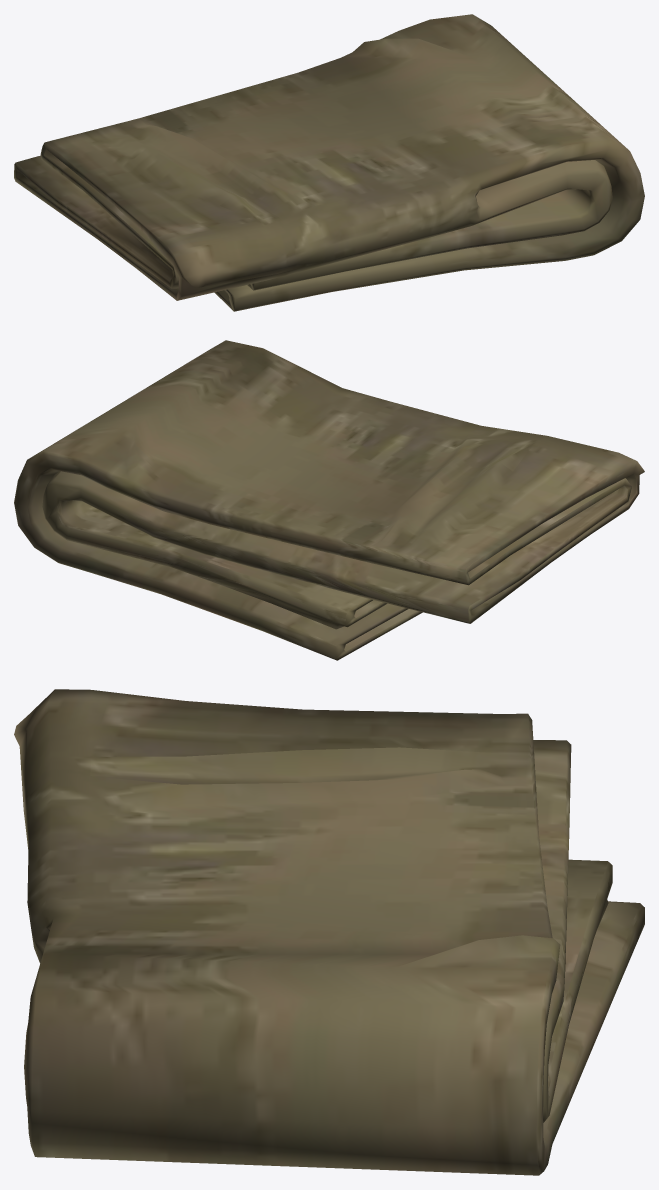
The model's file is pantsshorts_worldmodel.glb.
3 views of the same model, one above another, from view 1: azimuth 30°, elevation 25°; view 2: azimuth 150°, elevation 25°; view 3: azimuth 270°, elevation 25° (orthographic). The views are drawn at different scales.
Visible parts, largest first — view 1: Shorts_LOD0; view 2: Shorts_LOD0; view 3: Shorts_LOD0.
Part boxes in pixels (<box>): Shorts_LOD0: <box>14,14,644,311</box>; Shorts_LOD0: <box>14,340,644,660</box>; Shorts_LOD0: <box>14,689,644,1175</box>.
Bounding box in the file's own units: 0.3596 × 0.0848 × 0.2613.
1 material, 1 textured.
